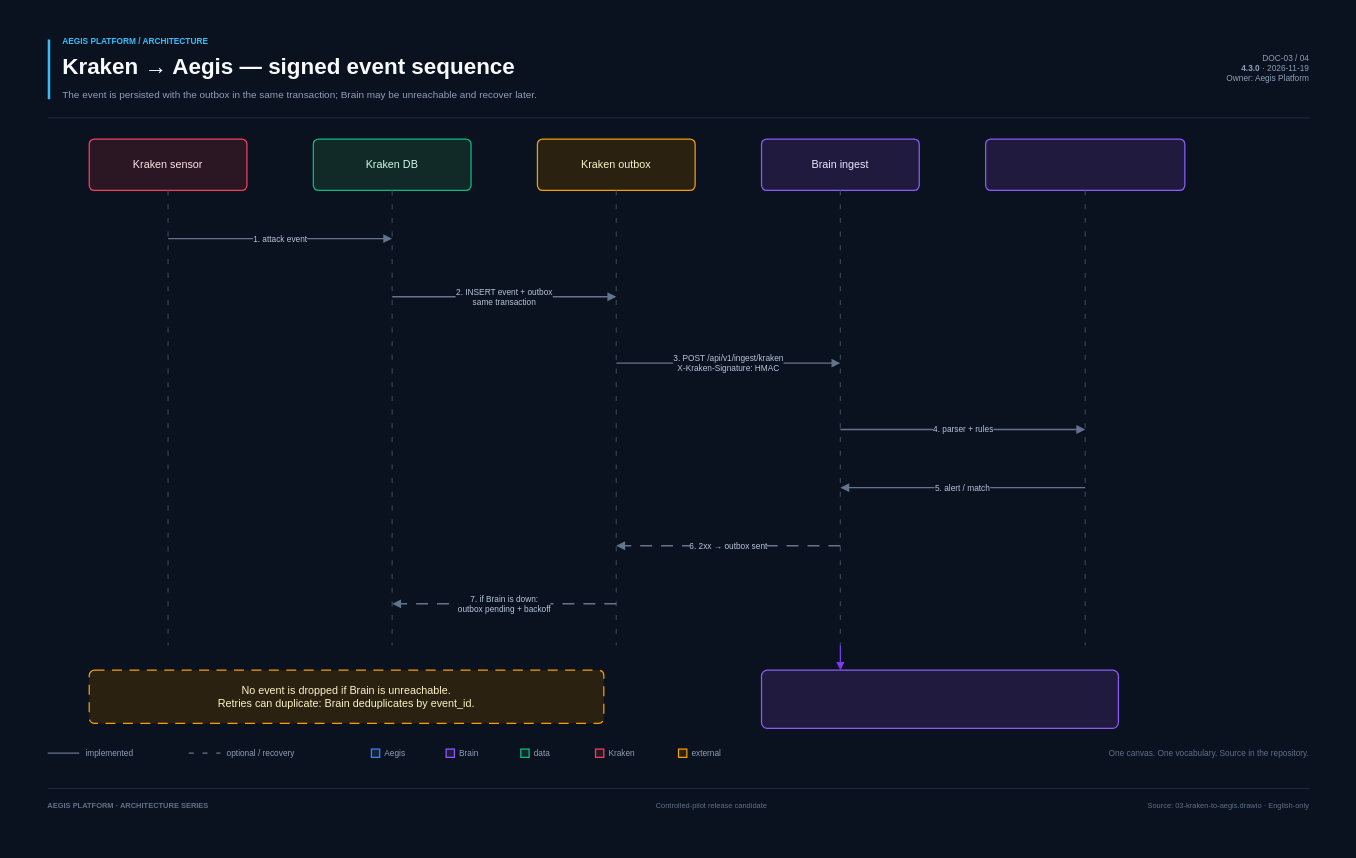
The diagram is 1356 pixels wide and 858 high, and some of its shapes have lost their labels. The centre of each missing label's shape, as x and y in pixels:
"Brain persists alert / incident and shows it in the Aegis timeline" goes at [940,699].
"Sigma + correlation" goes at [1085,164].
